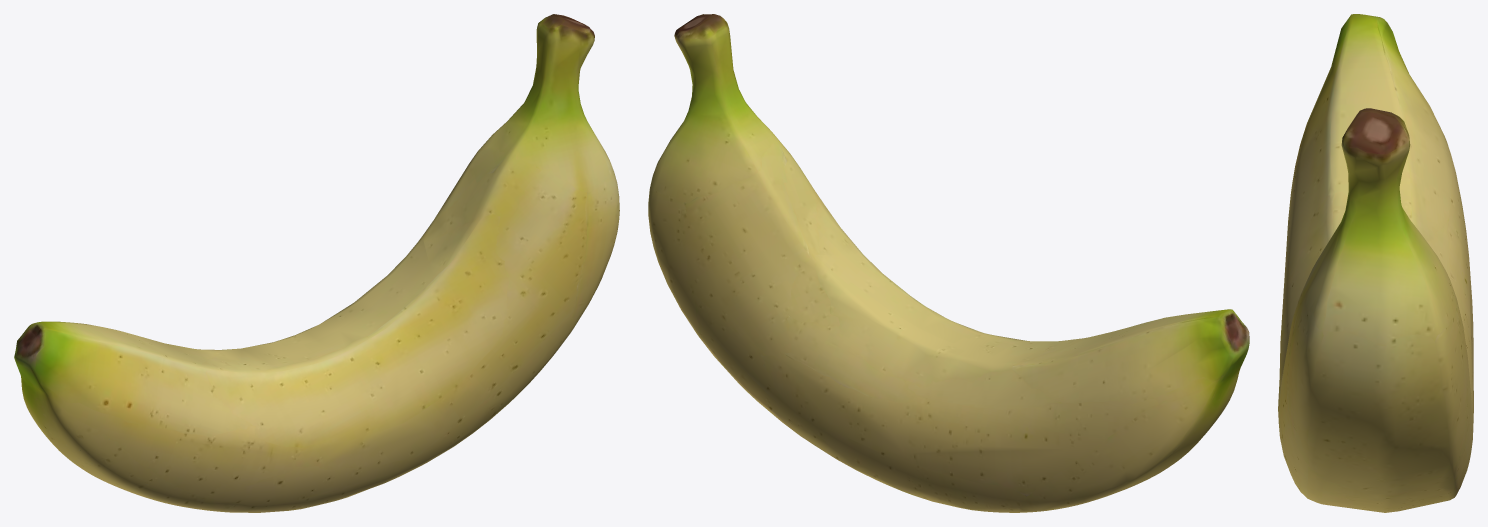
File: banana.glb
3 views of the same model, side by side, from view 1: azimuth 30°, elevation 25°; view 2: azimuth 150°, elevation 25°; view 3: azimuth 270°, elevation 25° (orthographic). The views are drawn at different scales.
Parts seen in each view (by area): view 1: material; view 2: material; view 3: material.
Part boxes in pixels (x1,y1,x2,y2): material: (14, 14, 619, 512); material: (648, 14, 1249, 512); material: (1278, 14, 1473, 512).
Bounding box in the file's own units: 1.06 × 0.7188 × 0.2472.
Materials: 1 (1 with a texture image).
